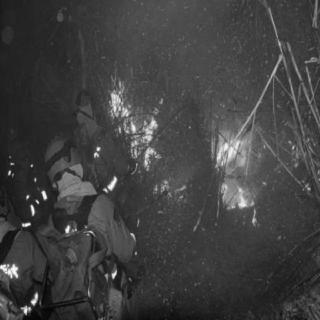Fire: (200, 115, 264, 229)
